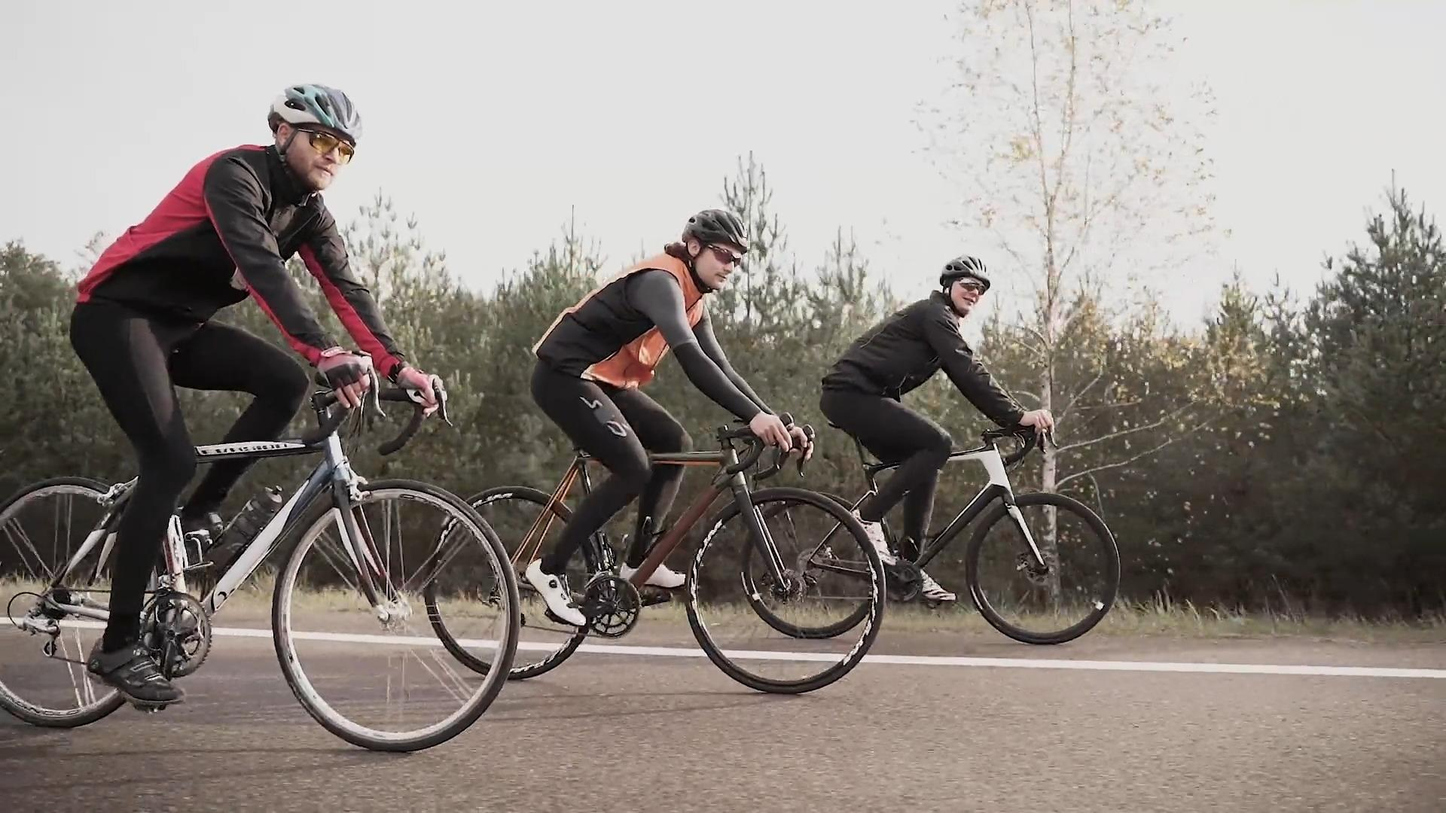bicyclist: (3, 81, 520, 755), (425, 207, 886, 697), (738, 253, 1120, 645)
helmet: (267, 83, 363, 192), (681, 209, 752, 291), (939, 254, 991, 319)
